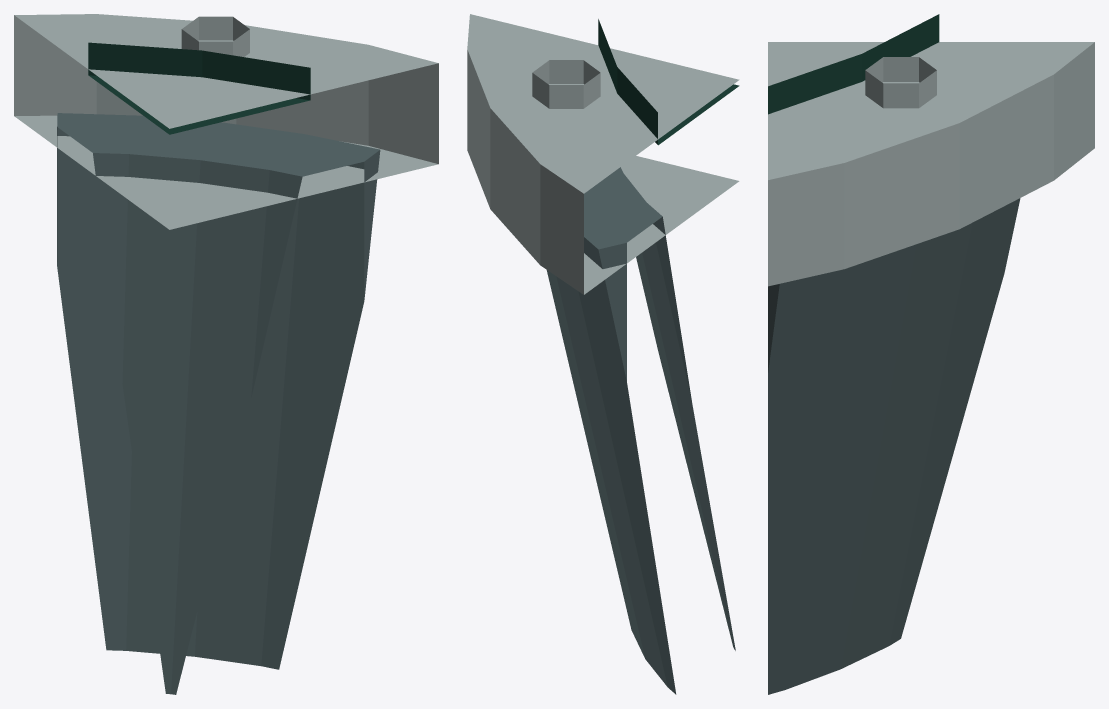
File: cell_29.obj
3 views of the same model, side by side, from view 1: azimuth 30°, elevation 25°; view 2: azimuth 150°, elevation 25°; view 3: azimuth 270°, elevation 25° (orthographic). The views are drawn at different scales.
Size of the model in its own units: 0.474 by 1 by 0.474.
